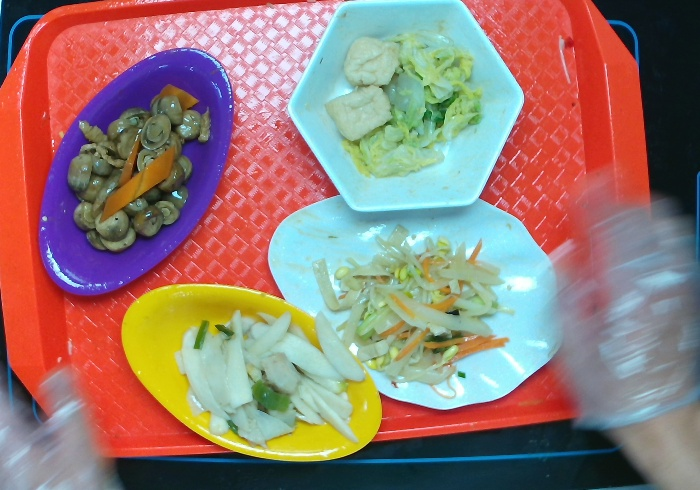RJxy-Bai_Ye_Pan: (258, 187, 568, 415)
RJxy-Fen_Hong_Tuo_Yuan: (37, 43, 241, 300)
RJxy-Huang_Se_Tuo_Yuan: (114, 279, 390, 464)
RJxy-Liu_Jiao_Wan: (285, 1, 527, 239)
